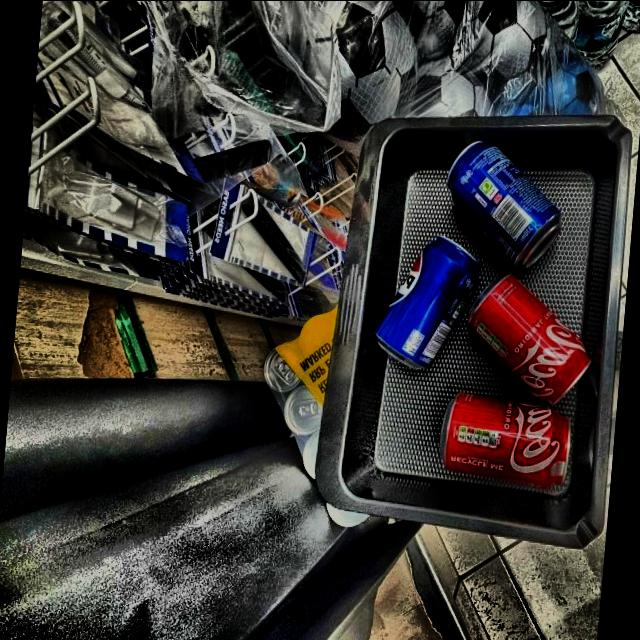coke-can: (473, 280, 603, 404), (434, 404, 574, 492)
pepsi-can: (376, 226, 477, 372), (446, 144, 557, 264)
